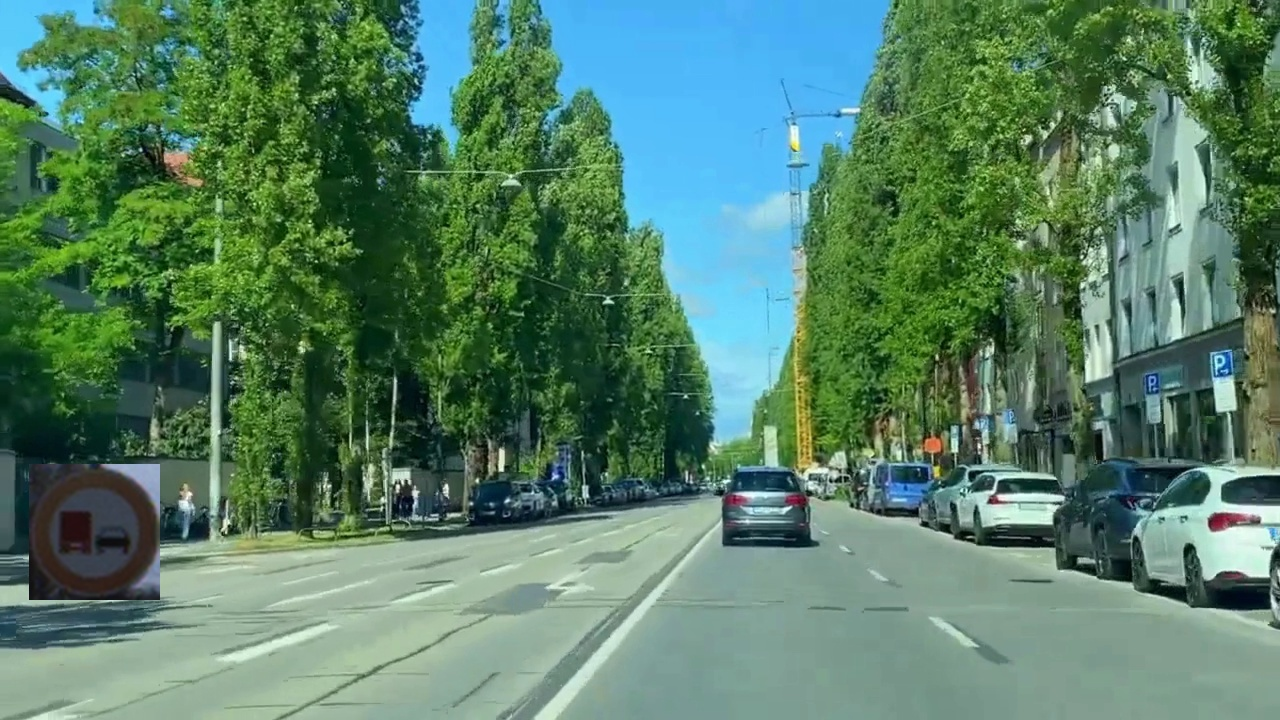No pass >3.5t: (29, 464, 160, 600)
